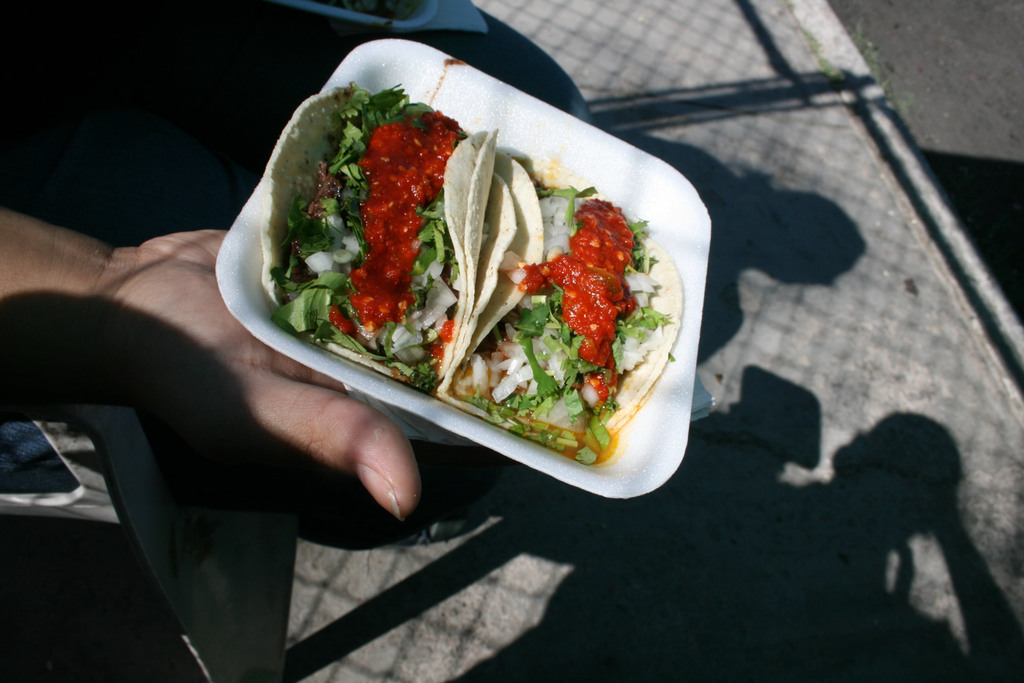taco: (266, 121, 497, 373), (461, 196, 676, 457)
